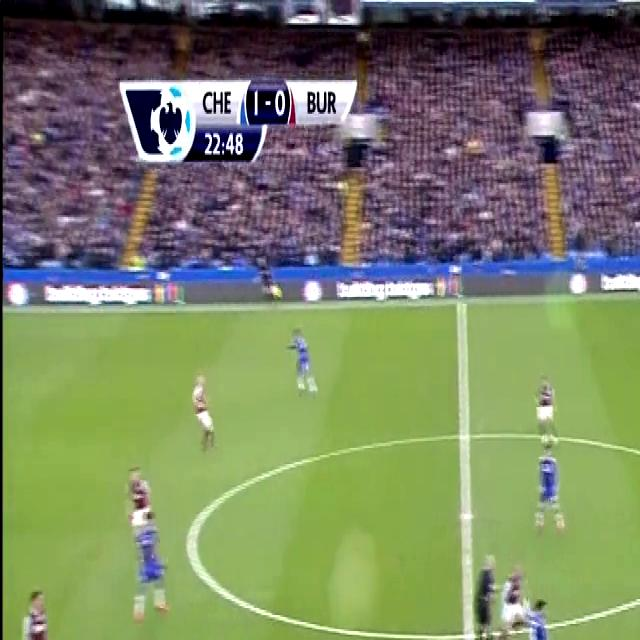referee: (468, 540, 498, 640)
soccer-player: (135, 504, 171, 624), (122, 462, 159, 563), (11, 570, 63, 640), (529, 437, 564, 537), (186, 360, 220, 452), (286, 318, 321, 403), (528, 368, 561, 447), (503, 547, 531, 640), (525, 586, 548, 640)
